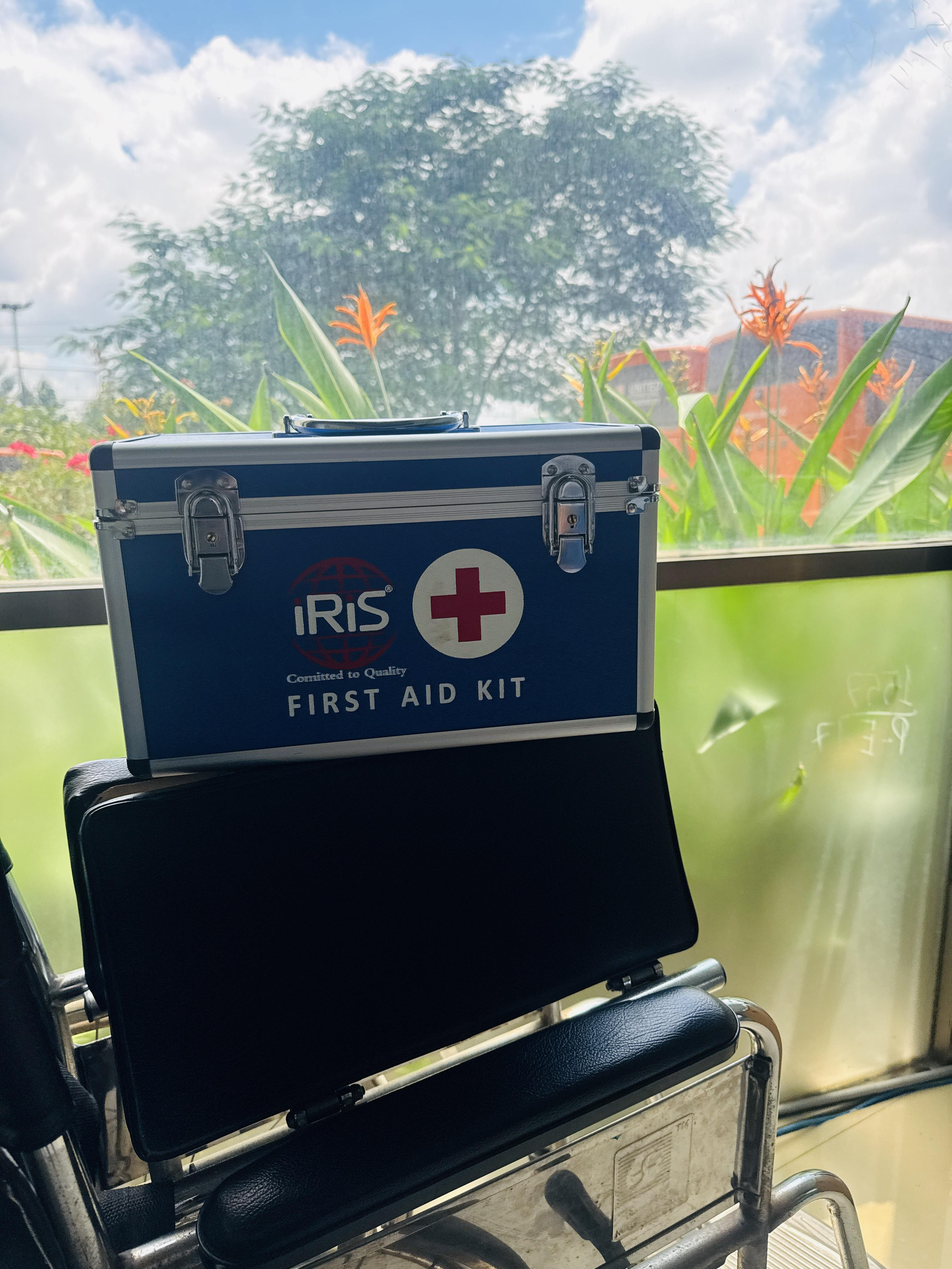FirstAidBox: (61, 412, 752, 795)
